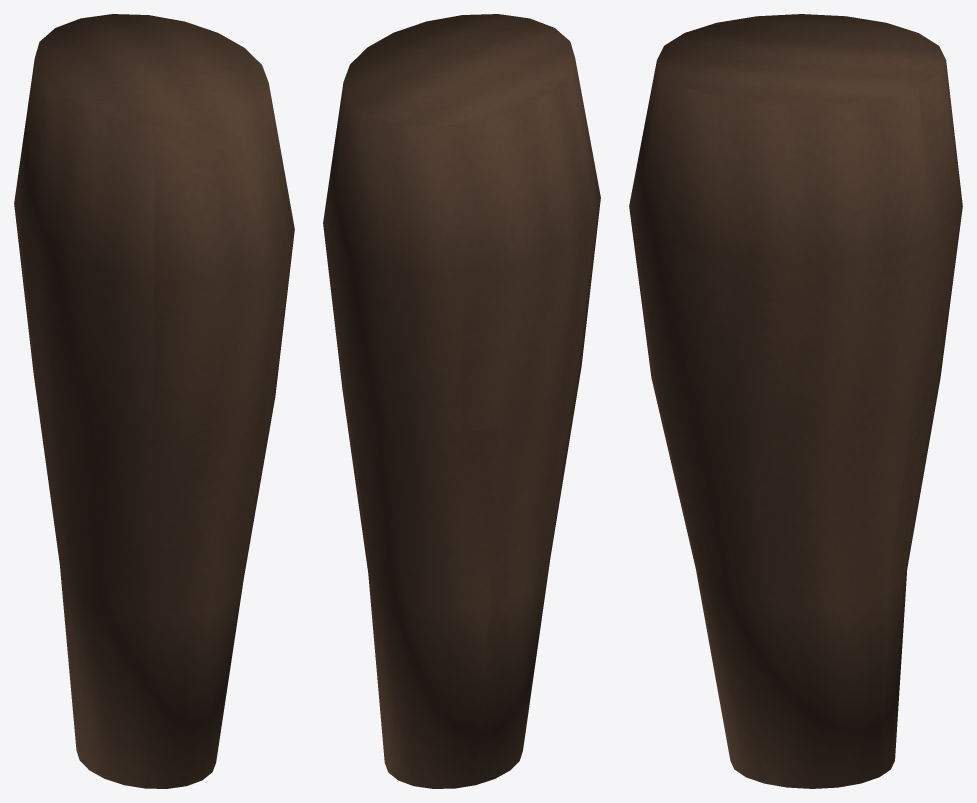
3 renders of one model, left to right at view 1: azimuth 30°, elevation 25°; view 2: azimuth 150°, elevation 25°; view 3: azimuth 270°, elevation 25°, orthographic. The views are drawn at different scales.
Parts seen in each view (by area): view 1: agro_fr_up_LOD0; view 2: agro_fr_up_LOD0; view 3: agro_fr_up_LOD0.
Boxes of the visible parts, <box> form: agro_fr_up_LOD0: <box>14,14,294,788</box>; agro_fr_up_LOD0: <box>323,14,600,788</box>; agro_fr_up_LOD0: <box>629,14,962,788</box>.
Size of the model in its own units: 0.24 by 0.695 by 0.3.
Materials: 1 (1 with a texture image).
